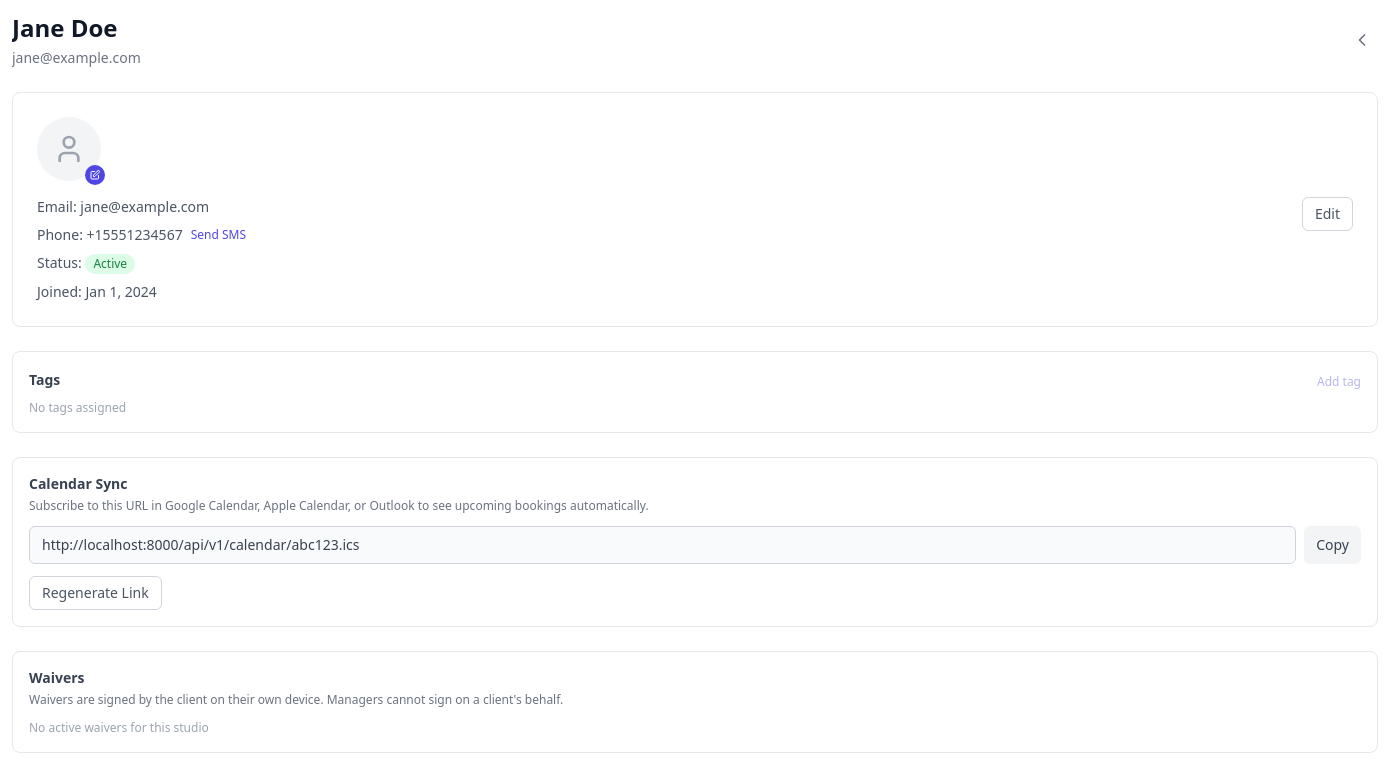
ClientDetail — Calendar Sync › copies the feed URL to the clipboard and shows confirmation
Expected: the field showing "http://localhost:8000/api/v1/calendar/abc123.ics" is shown, [29,526,1296,564]
Click the button "Copy". click: click(1333, 545)
box: [1304,526,1361,564]
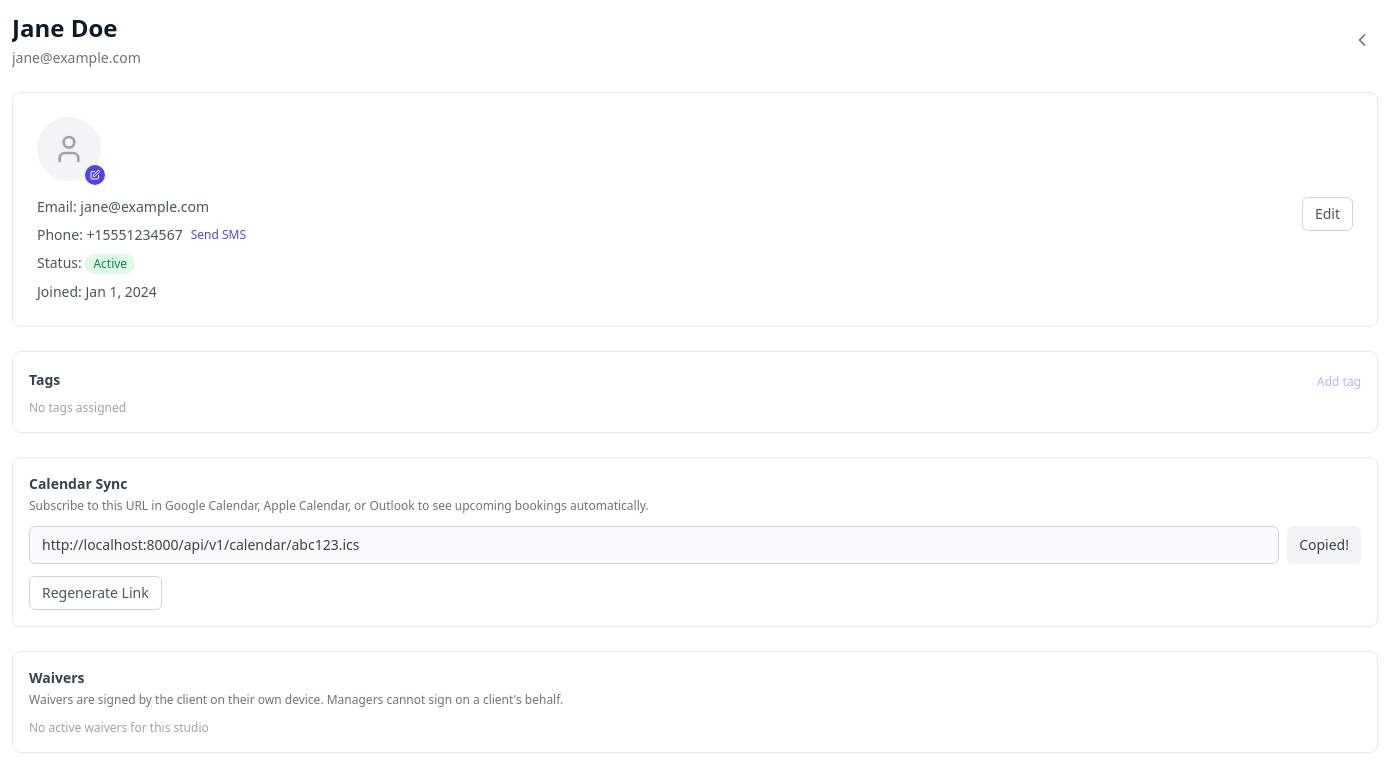
Expected: the button "Copied!" is shown, [1287,526,1361,564]
